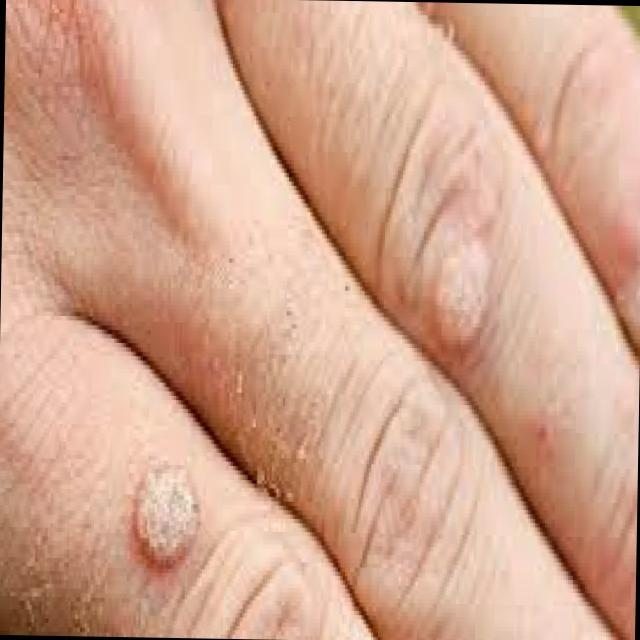Eczema: (226, 302, 336, 505), (127, 456, 206, 570)
